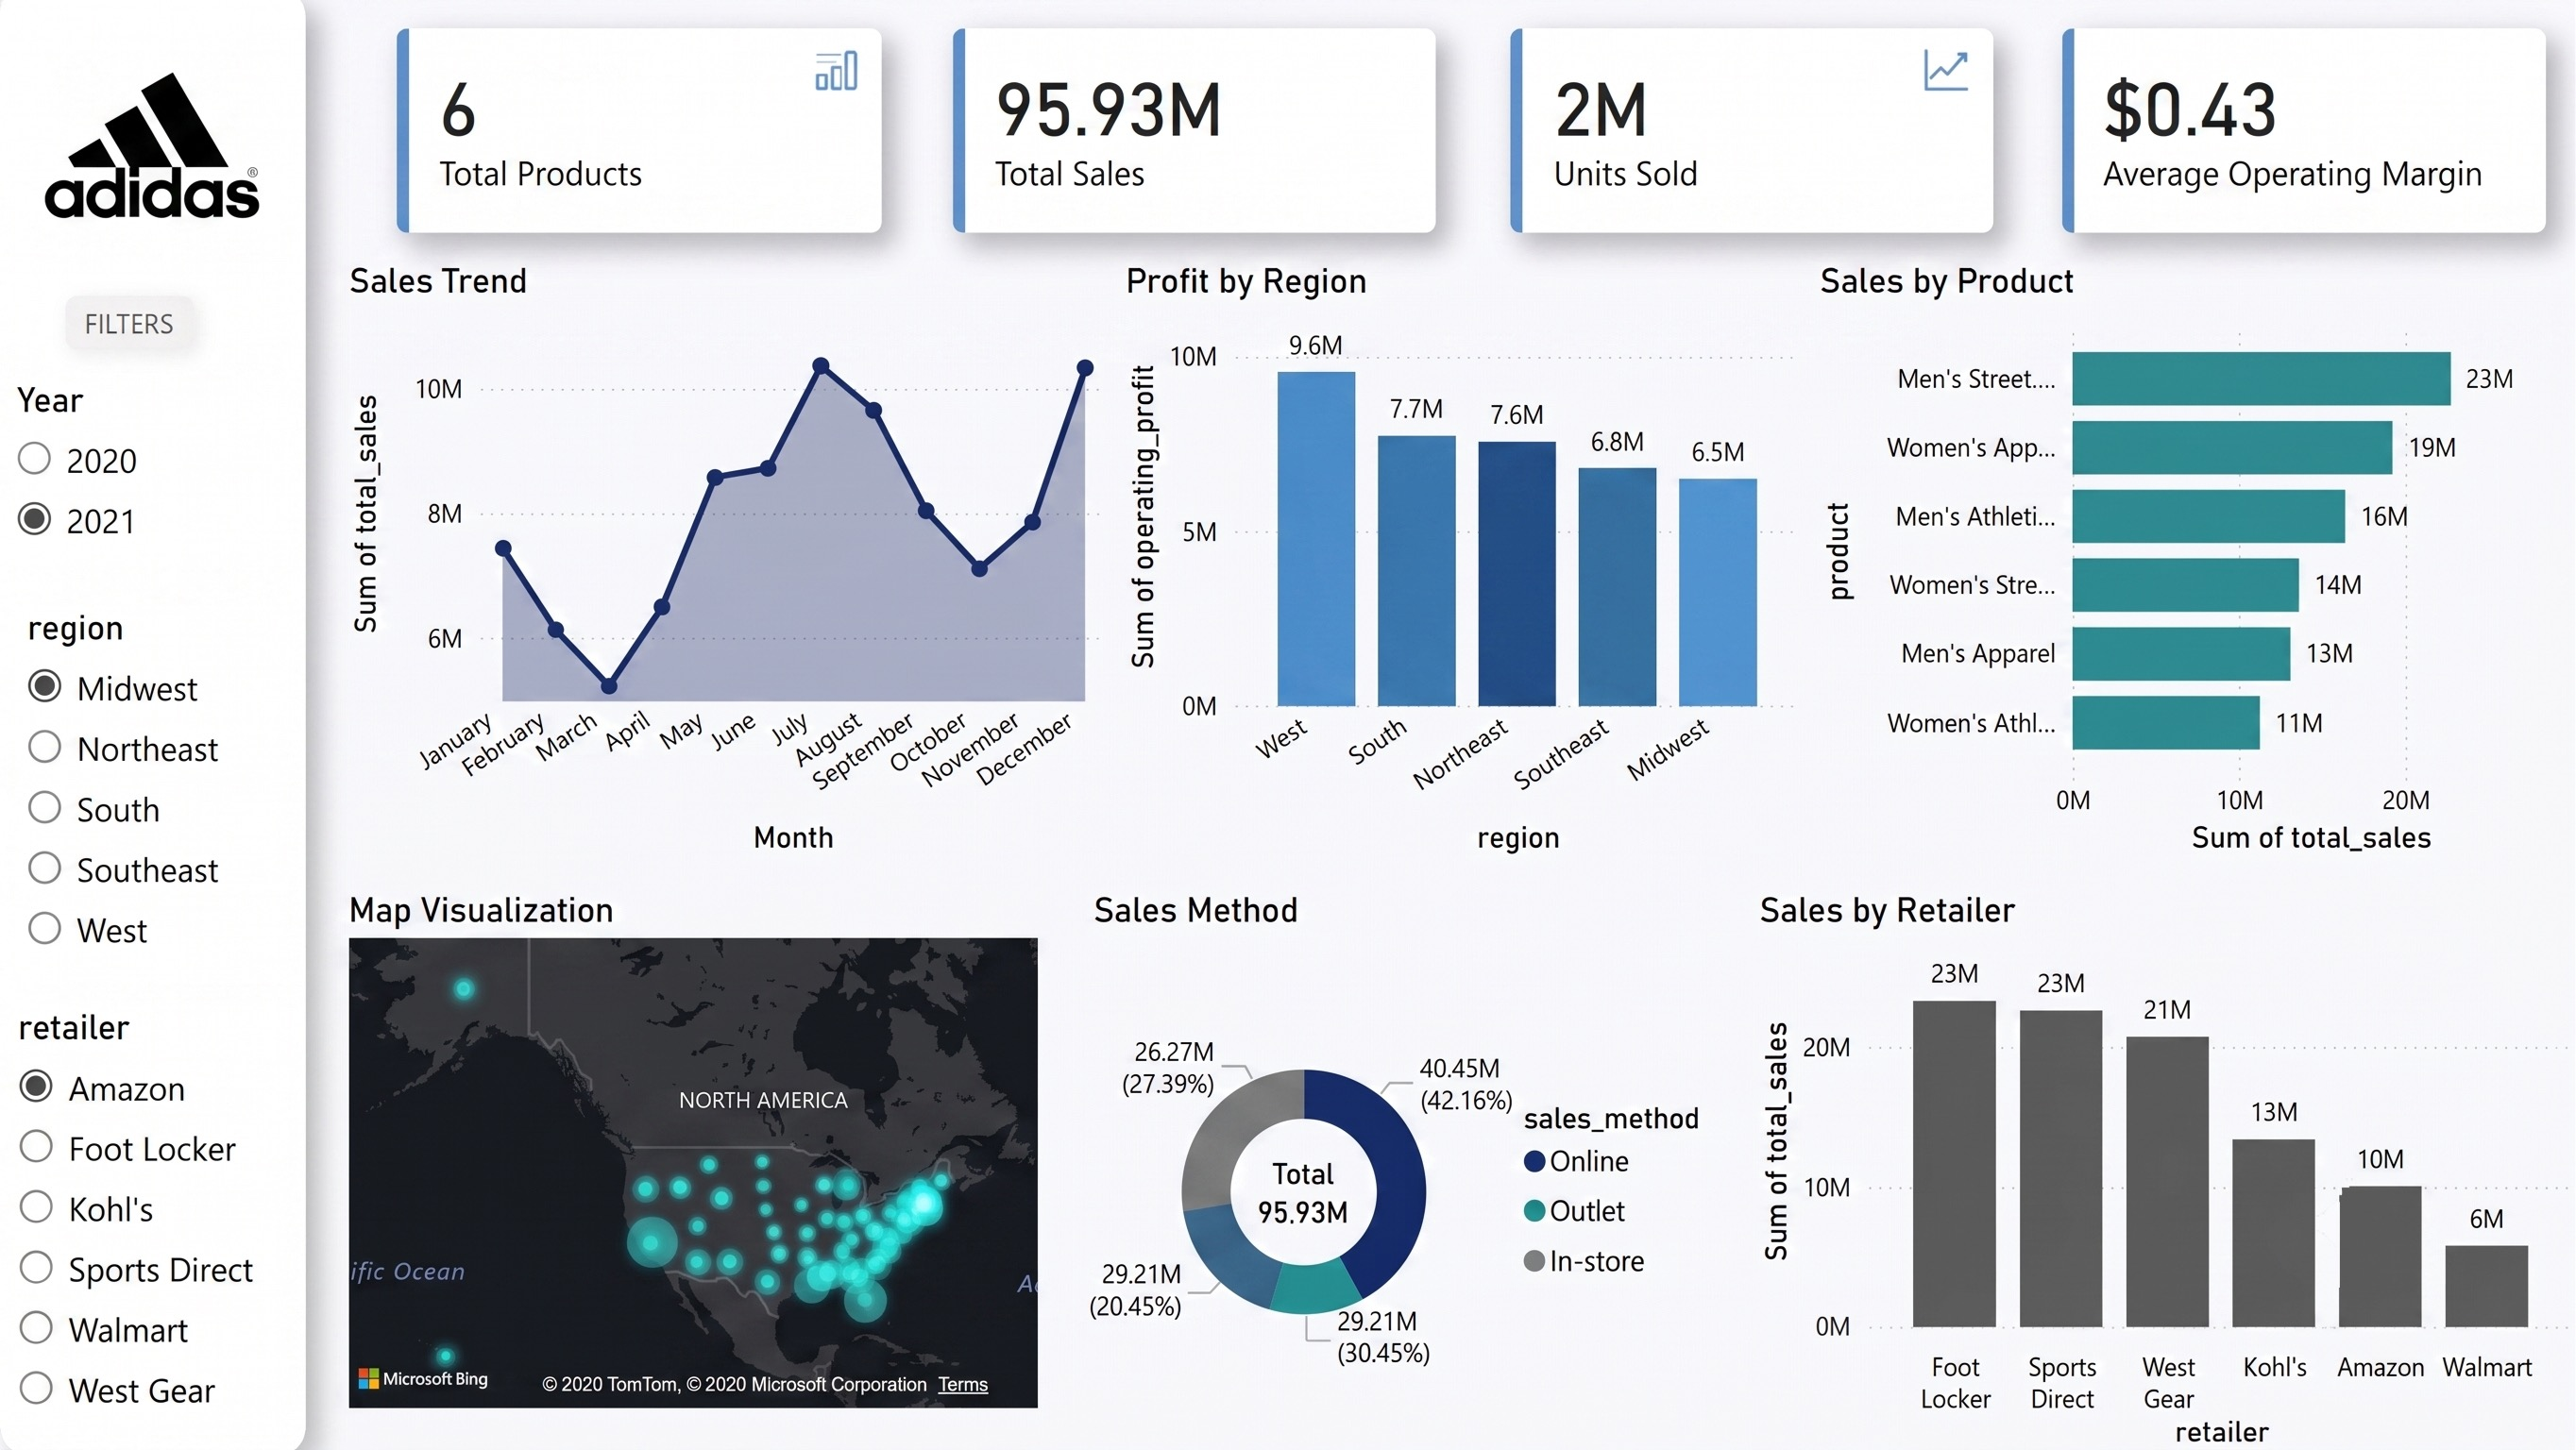

The page's visual inventory and layout, read from the dashboard file:
{"tool":"powerbi","page":{"name":"Overview","canvas":[1280,720],"ordinal":1},"visuals":[{"type":"shape","box":[0,0,152.2,720],"z":0},{"type":"image","box":[7.8,20,130,106.7],"z":1000},{"type":"cardVisual","fields":{"Data":["adidas_sales_dataset.TOTAL PRODUCTS"]},"box":[186.7,5.6,255.6,108.9],"z":2000},{"type":"cardVisual","fields":{"Data":["Sum(adidas_sales_dataset.total_sales)"]},"box":[462.2,5.6,255.6,108.9],"z":3000},{"type":"cardVisual","fields":{"Data":["Sum(adidas_sales_dataset.units_sold)"]},"box":[738.9,5.6,255.6,108.9],"z":4000},{"type":"cardVisual","fields":{"Data":["Avg(adidas_sales_dataset.operating_margin)"]},"box":[1011.1,5.6,255.6,108.9],"z":5000},{"type":"lineChart","title":"Sales Trend","fields":{"Y":["Sum(adidas_sales_dataset.total_sales)"],"Category":["adidas_sales_dataset.invoice_date.Variation.Date Hierarchy.Month"]},"box":[152.2,126.3,386,299.1],"z":6000},{"type":"clusteredColumnChart","title":"Profit by Region","fields":{"Category":["adidas_sales_dataset.region"],"Y":["Sum(adidas_sales_dataset.operating_profit)"]},"box":[553.4,126.3,343,299.1],"z":7000},{"type":"barChart","title":"Sales by Product","fields":{"Category":["adidas_sales_dataset.product"],"Y":["Sum(adidas_sales_dataset.total_sales)"]},"box":[896.7,126.7,383.3,298.9],"z":8000},{"type":"columnChart","title":"Sales by Retailer","fields":{"Category":["adidas_sales_dataset.retailer"],"Y":["Sum(adidas_sales_dataset.total_sales)"]},"box":[866.7,438.9,413.3,281.1],"z":9000},{"type":"donutChart","title":"Sales Method","fields":{"Category":["adidas_sales_dataset.sales_method"],"Y":["Sum(adidas_sales_dataset.total_sales)"]},"box":[536.7,438.9,321.1,281.1],"z":10000},{"type":"map","title":"Map Visualization","fields":{"Category":["adidas_sales_dataset.state"],"Size":["Sum(adidas_sales_dataset.total_sales)"]},"box":[167.8,438.9,351.1,262.2],"z":11000},{"type":"listSlicer","fields":{"Values":["adidas_sales_dataset.invoice_date.Variation.Date Hierarchy.Year"]},"box":[18.8,185.4,106.6,90.4],"z":12000},{"type":"listSlicer","fields":{"Values":["adidas_sales_dataset.region"]},"box":[12.5,296.4,125.4,178.2],"z":13000},{"type":"listSlicer","fields":{"Values":["adidas_sales_dataset.retailer"]},"box":[12.5,488.1,125.4,213.1],"z":14000},{"type":"textbox","box":[36.7,144.2,74.3,33.1],"z":15000}]}

Visuals, with their boxes in screenshot pixels (x1, y1, x2, y2), scaled from the page's 1280x720 canvas onto the 2576x1450 screenshot:
shape: (x1=0, y1=0, x2=306, y2=1449)
image: (x1=16, y1=41, x2=278, y2=255)
cardVisual - adidas_sales_dataset.TOTAL PRODUCTS: (x1=376, y1=11, x2=890, y2=230)
cardVisual - Sum(adidas_sales_dataset.total_sales): (x1=930, y1=11, x2=1445, y2=230)
cardVisual - Sum(adidas_sales_dataset.units_sold): (x1=1487, y1=11, x2=2002, y2=230)
cardVisual - Avg(adidas_sales_dataset.operating_margin): (x1=2035, y1=11, x2=2550, y2=230)
"Sales Trend" lineChart: (x1=306, y1=254, x2=1083, y2=857)
"Profit by Region" clusteredColumnChart: (x1=1113, y1=254, x2=1804, y2=857)
"Sales by Product" barChart: (x1=1805, y1=255, x2=2575, y2=857)
"Sales by Retailer" columnChart: (x1=1744, y1=884, x2=2575, y2=1449)
"Sales Method" donutChart: (x1=1080, y1=884, x2=1726, y2=1449)
"Map Visualization" map: (x1=338, y1=884, x2=1044, y2=1412)
listSlicer - adidas_sales_dataset.invoice_date.Variation.Date Hierarchy.Year: (x1=38, y1=374, x2=252, y2=555)
listSlicer - adidas_sales_dataset.region: (x1=25, y1=597, x2=278, y2=955)
listSlicer - adidas_sales_dataset.retailer: (x1=25, y1=983, x2=278, y2=1412)
textbox: (x1=74, y1=291, x2=224, y2=357)
